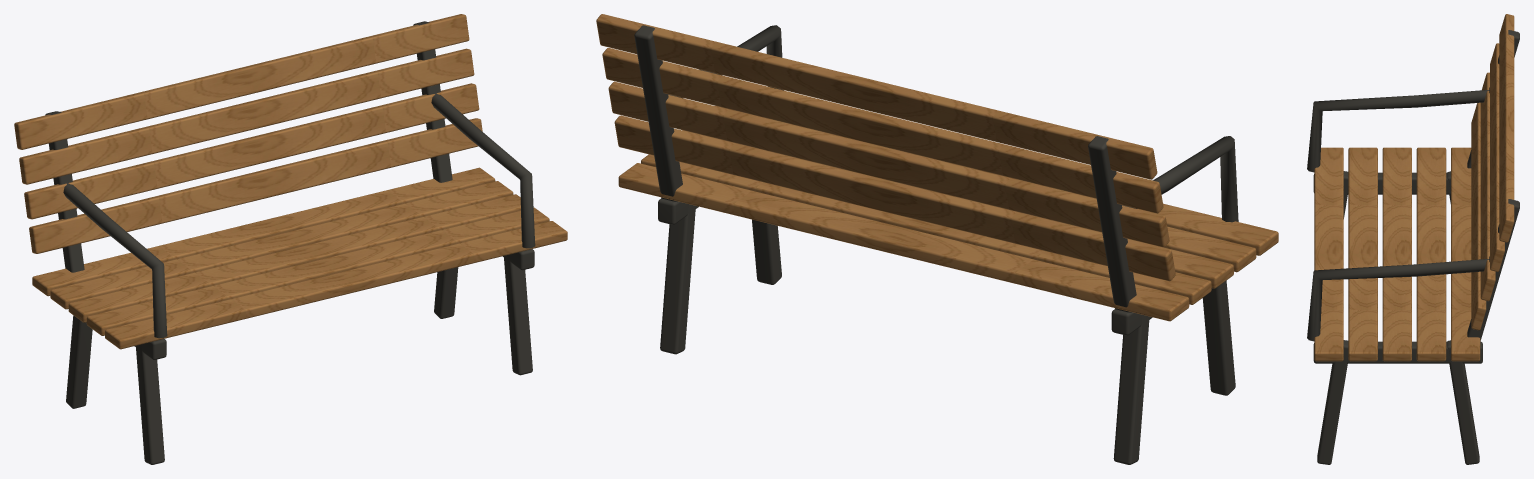
The model's file is slatted-park-bench-optimized.glb.
3 views of the same model, side by side, from view 1: azimuth 30°, elevation 25°; view 2: azimuth 150°, elevation 25°; view 3: azimuth 270°, elevation 25° (orthographic). The views are drawn at different scales.
Parts seen in each view (by area): view 1: Teak | back plank, Steel | curved arm; view 2: Teak | back plank, Steel | curved arm; view 3: Teak | back plank, Steel | curved arm.
Part boxes in pixels (left/top/right/bottom): Teak | back plank: left=14, top=14, right=567, bottom=349; Steel | curved arm: left=45, top=21, right=535, bottom=464; Teak | back plank: left=596, top=14, right=1278, bottom=321; Steel | curved arm: left=634, top=25, right=1238, bottom=464; Teak | back plank: left=1314, top=14, right=1514, bottom=361; Steel | curved arm: left=1307, top=30, right=1519, bottom=464.
Bounding box in the file's own units: 1.57 × 0.9299 × 0.6861.
2 materials, 1 textured.
